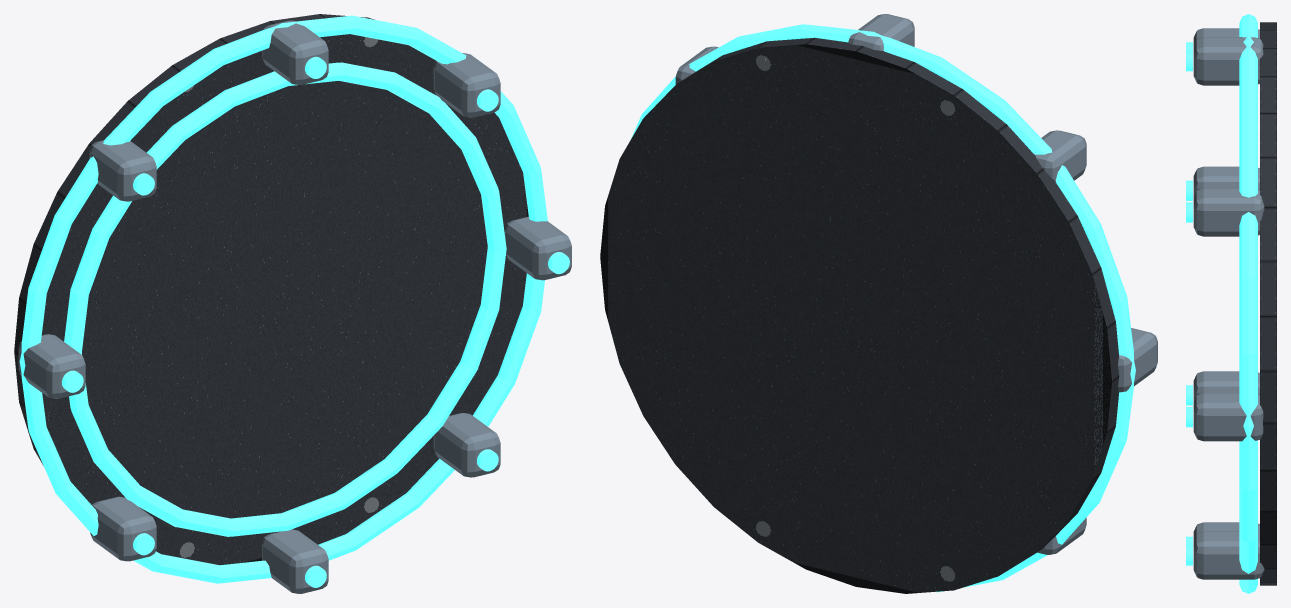
The model's file is dock-high.glb.
3 views of the same model, side by side, from view 1: azimuth 30°, elevation 25°; view 2: azimuth 150°, elevation 25°; view 3: azimuth 270°, elevation 25° (orthographic). The views are drawn at different scales.
Visible parts, largest first — view 1: dock-root / Ceramic graphite.010, dock-root / Cyan instrumentation.010, dock-root / Titanium edges.010; view 2: dock-root / Ceramic graphite.010, dock-root / Cyan instrumentation.010, dock-root / Titanium edges.010; view 3: dock-root / Titanium edges.010, dock-root / Cyan instrumentation.010, dock-root / Ceramic graphite.010.
Boxes of the visible parts, box(x1,y1,x2,y2) form: dock-root / Ceramic graphite.010: box(14, 14, 528, 565); dock-root / Cyan instrumentation.010: box(19, 15, 569, 587); dock-root / Titanium edges.010: box(18, 20, 571, 593); dock-root / Ceramic graphite.010: box(600, 37, 1119, 593); dock-root / Cyan instrumentation.010: box(631, 24, 1135, 592); dock-root / Titanium edges.010: box(675, 14, 1157, 554); dock-root / Titanium edges.010: box(1193, 28, 1264, 579); dock-root / Cyan instrumentation.010: box(1186, 14, 1257, 593); dock-root / Ceramic graphite.010: box(1260, 22, 1276, 585).
Bounding box in the file's own units: 2.07 × 2.07 × 0.322.
Materials: 3 (1 with a texture image).
